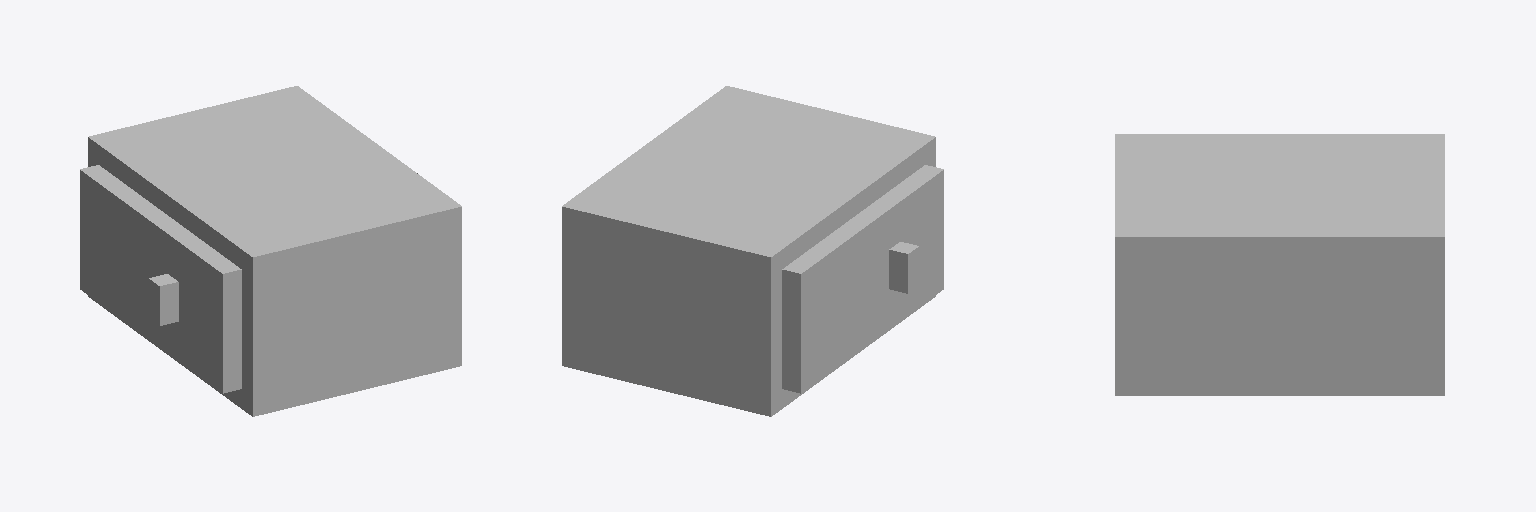
Rendered from _icro Wave.obj.
The picture shows the model from 3 angles: view 1: azimuth 30°, elevation 25°; view 2: azimuth 150°, elevation 25°; view 3: azimuth 270°, elevation 25°; orthographic projection.
Parts seen in each view (by area): view 1: object 1; view 2: object 1; view 3: object 1.
Boxes of the visible parts, box(x1,y1,x2,y2) form: object 1: box(80, 86, 461, 416); object 1: box(562, 86, 943, 416); object 1: box(1115, 134, 1444, 395).
Size of the model in its own units: 1.3 by 0.8 by 1.5.